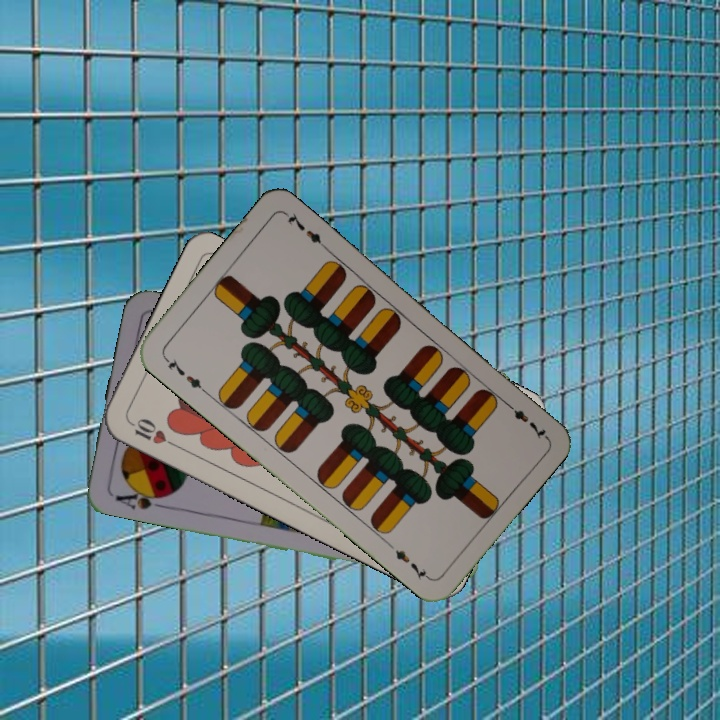E7: (500, 397, 549, 442), (160, 353, 209, 396)
H10: (125, 414, 180, 450)
SA: (112, 483, 170, 512)
